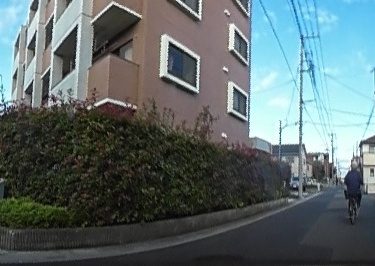person: (345, 160, 361, 211)
